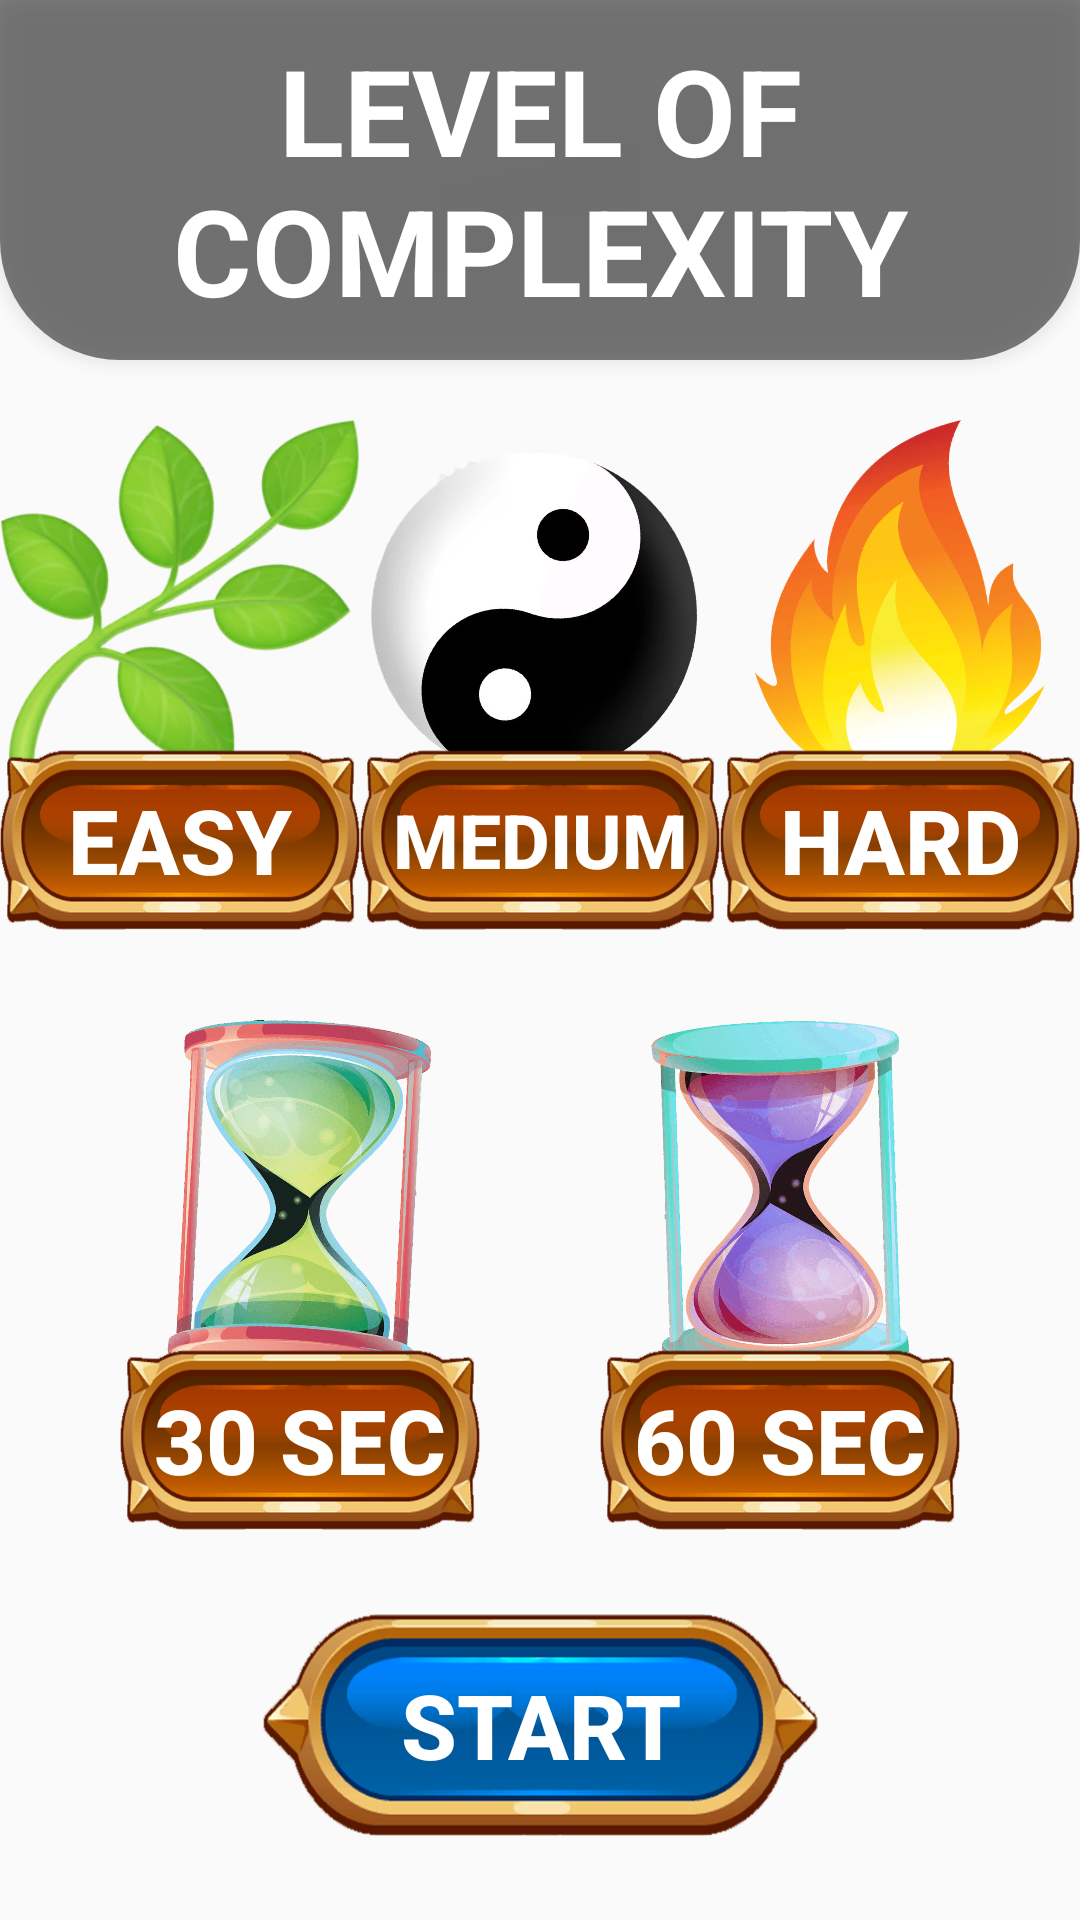

Icon bounding boxes for this 1080 x 1920 phone screenshot, format (x1, y1, x2, y2):
fire: (727, 420, 1074, 780)
plant: (1, 420, 359, 780)
